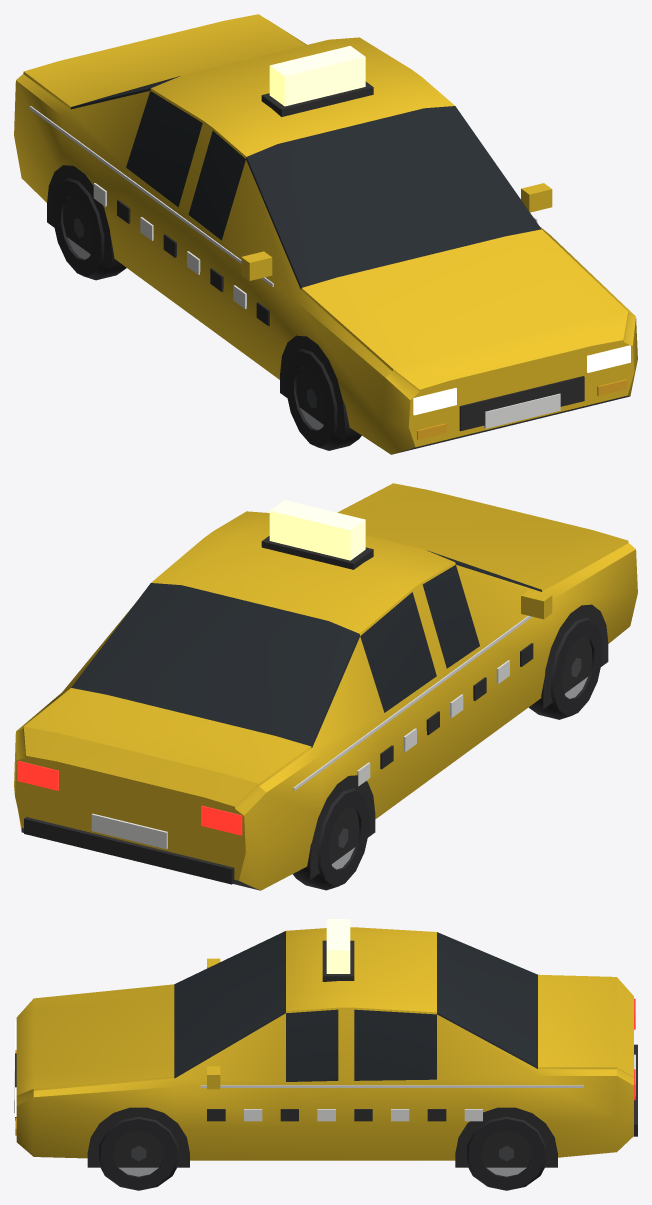
Rendered from taxi.glb.
3 renders of one model, top to bottom at view 1: azimuth 30°, elevation 25°; view 2: azimuth 150°, elevation 25°; view 3: azimuth 270°, elevation 25°, orthographic. The views are drawn at different scales.
Parts seen in each view (by area): view 1: sedan; view 2: sedan; view 3: sedan.
Part boxes in pixels (<box>): sedan: <box>14,14,637,454</box>; sedan: <box>14,483,637,890</box>; sedan: <box>14,919,637,1190</box>.
Bounding box in the file's own units: 0.126 × 0.1044 × 0.285.
